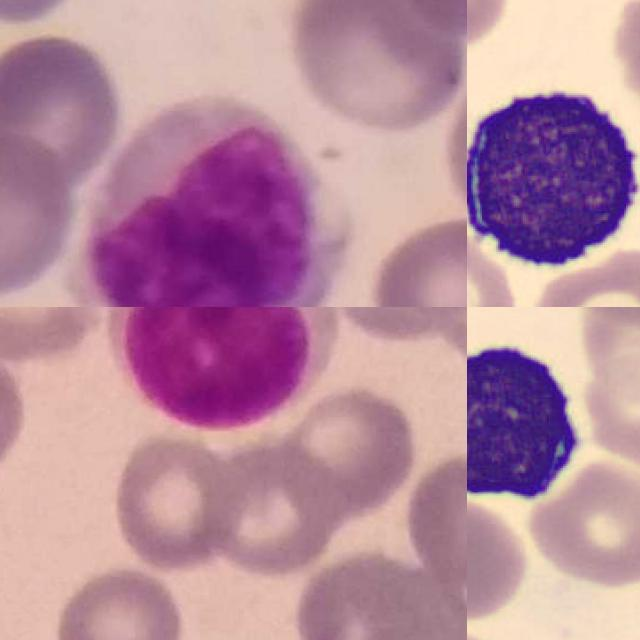Lymphocyte: (467, 72, 640, 276), (103, 307, 342, 437), (467, 326, 594, 510)
Monocyte: (81, 89, 346, 307)
RBC: (524, 457, 640, 591), (467, 457, 532, 621), (579, 344, 640, 471), (528, 244, 640, 307), (467, 218, 521, 307)
